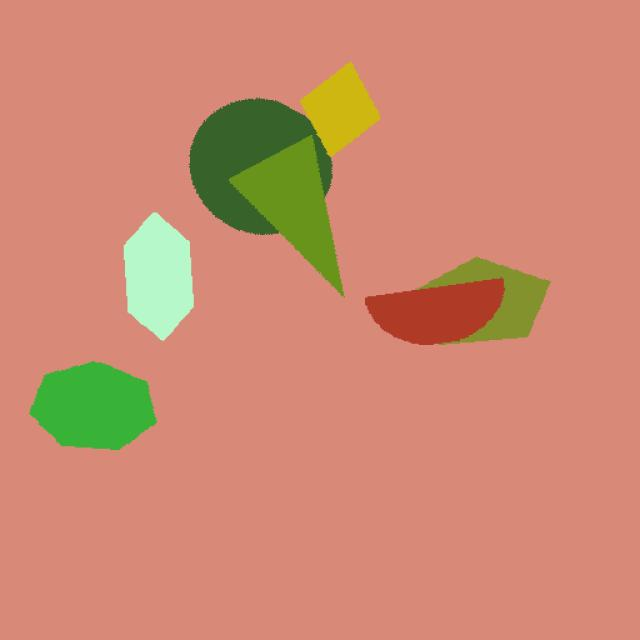Circle: (186, 83, 342, 239)
Heptagon: (24, 349, 186, 472)
Hexagon: (119, 217, 203, 346)
Pentagon: (406, 249, 566, 350)
Semicircle: (348, 270, 512, 348)
Triangle: (222, 132, 360, 317)
square: (287, 55, 407, 174)
